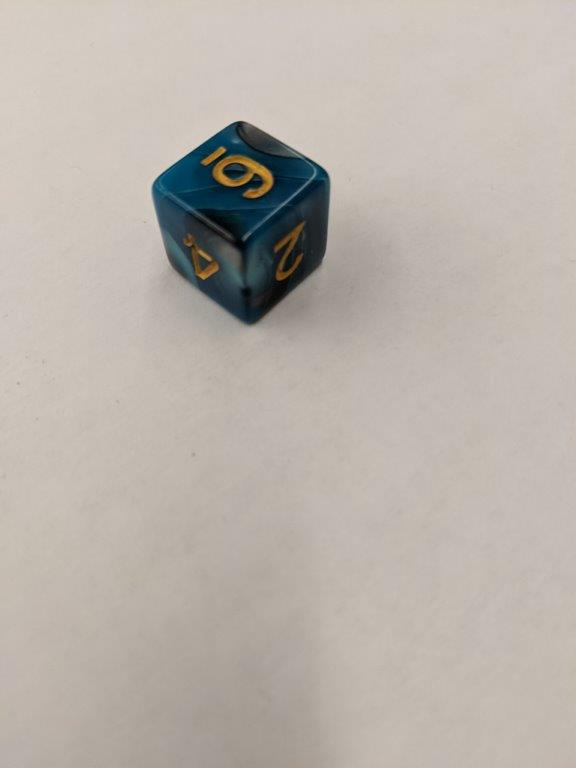d6-6: (152, 120, 329, 325)
